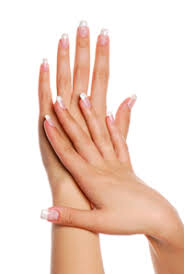hand: (17, 14, 169, 244)
